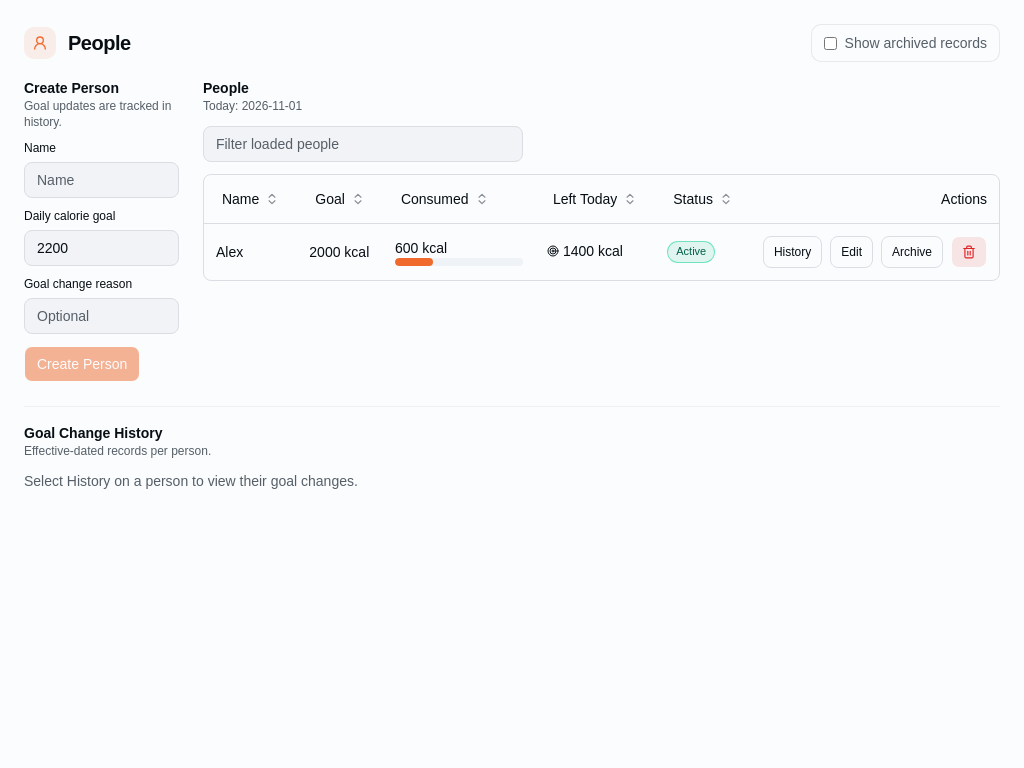
Test: People route › clears the effective history selection after a remote person deletion
Click the button "History".
click(793, 252)  # box [763,236,822,268]
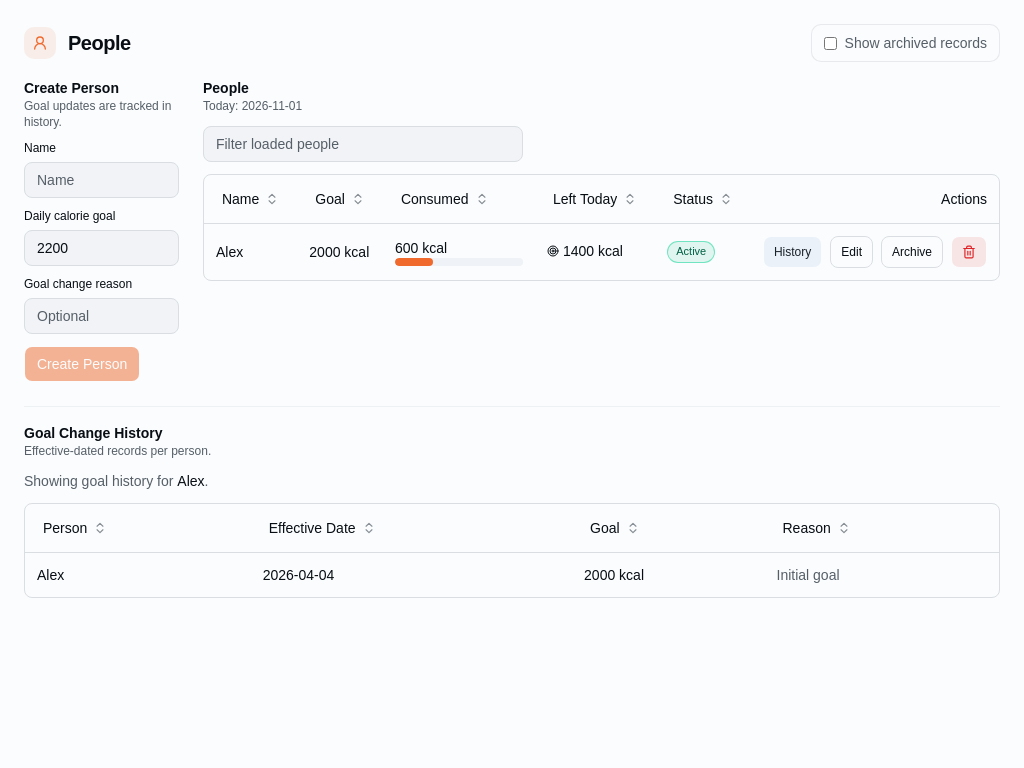
Expected: the text "Showing goal history for Alex." is shown, [24,473,208,489]
